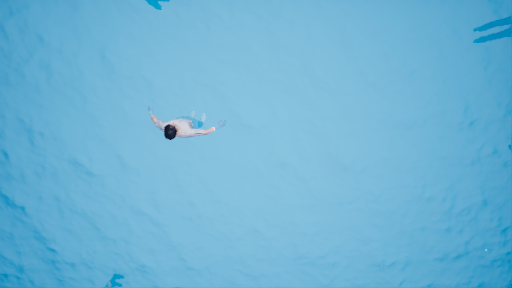person: (145, 103, 223, 142)
